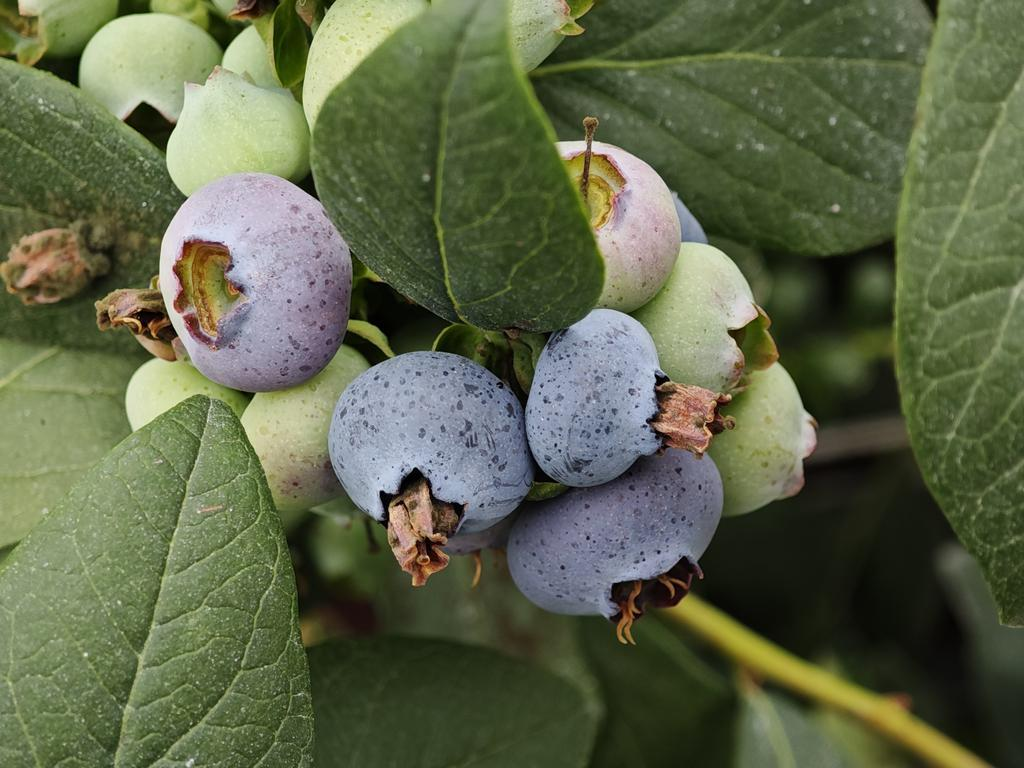RipeBlueBerry: (332, 350, 528, 544), (529, 309, 679, 486)
Semi-RipeBlueBerry: (161, 173, 353, 383)
